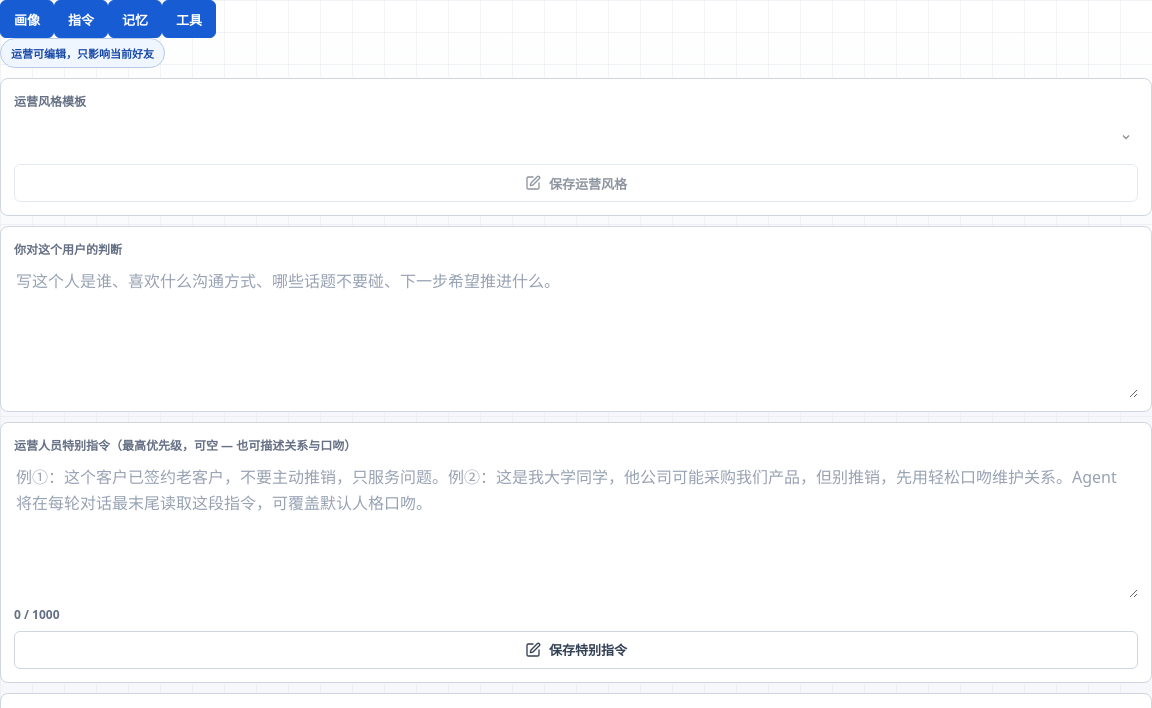
Test: ConfigureView 4-tab › 点击指令 tab 显示 AI 调整，画像内容隐藏
Click the tab "指令": {"x": 81, "y": 19} [54,0,108,38]
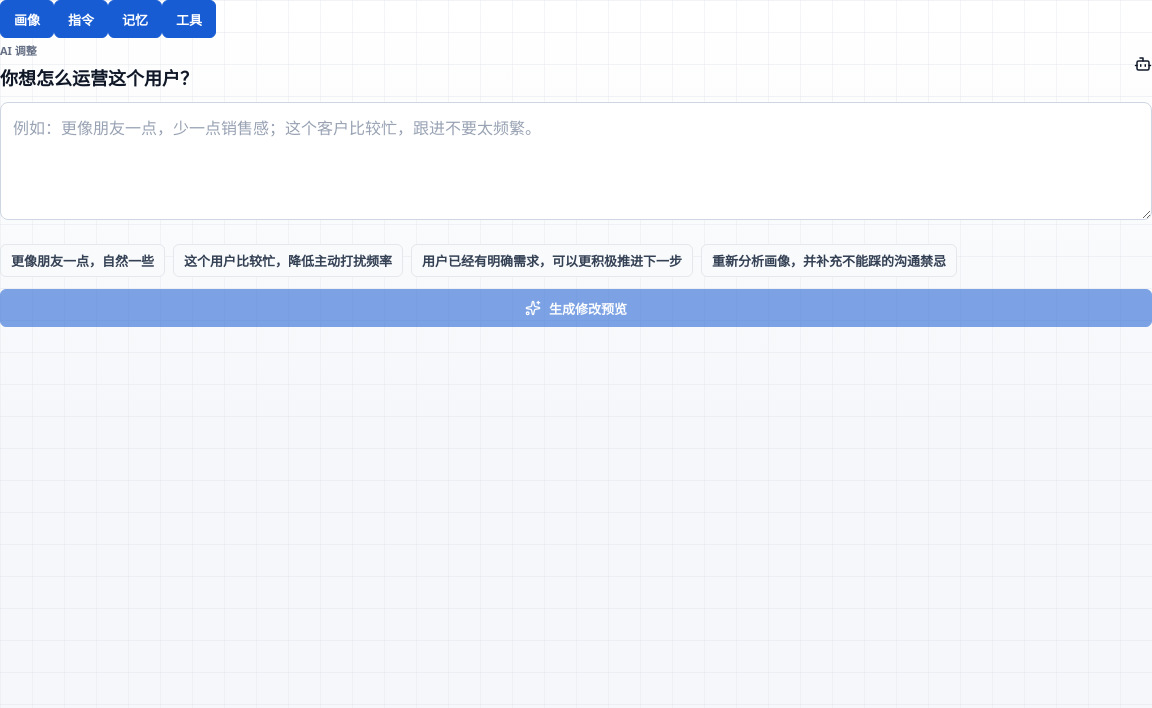
Expected: the heading "你想怎么运营这个用户？" is shown, [0,64,198,90]
Expected: the text "你对这个用户的判断" is gone
